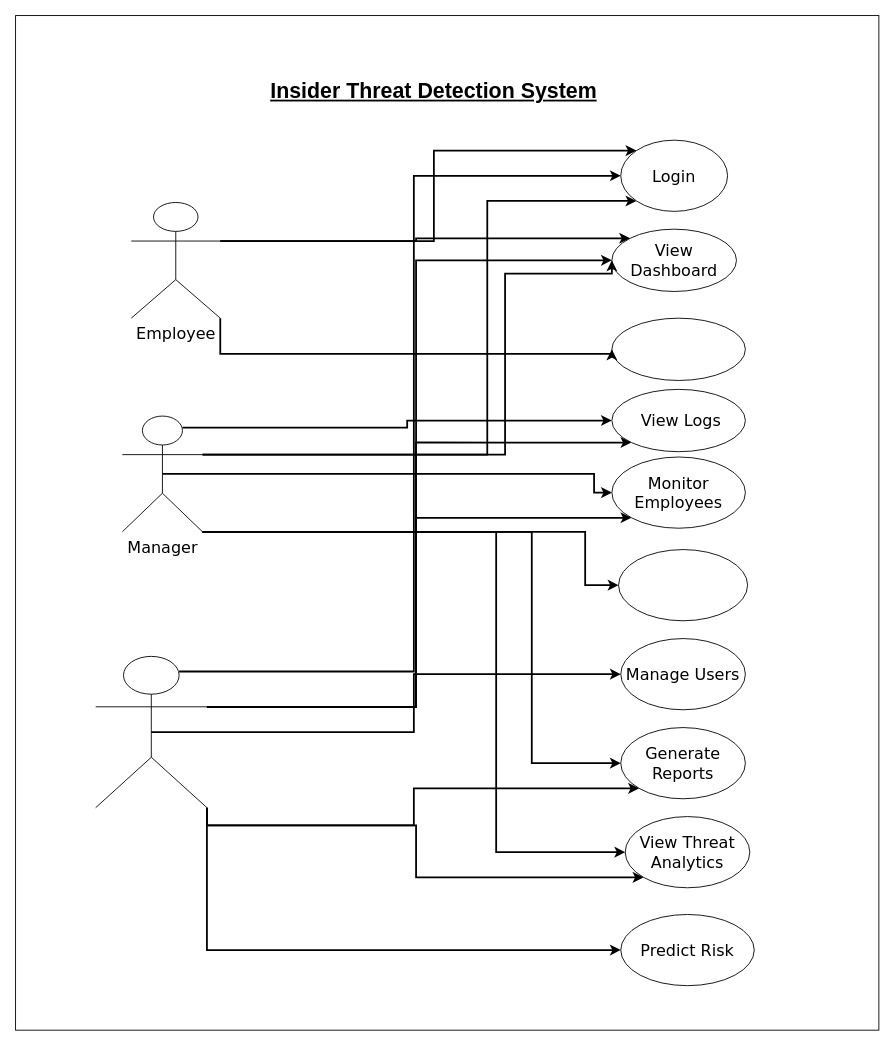
The diagram is 894 pixels wide and 1046 high, and some of its shapes have lost their labels. The shapes that lost their labels are listed below. From the top down, each one's centre as x and y in pixels, then its label:
At (x=678, y=348): "View Alerts".
At (x=683, y=585): "Configure Risk Settings".
At (x=151, y=731): "ADMIN".
